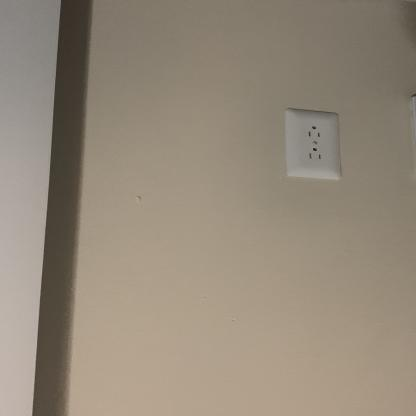OUTLET: (285, 112, 340, 178)
